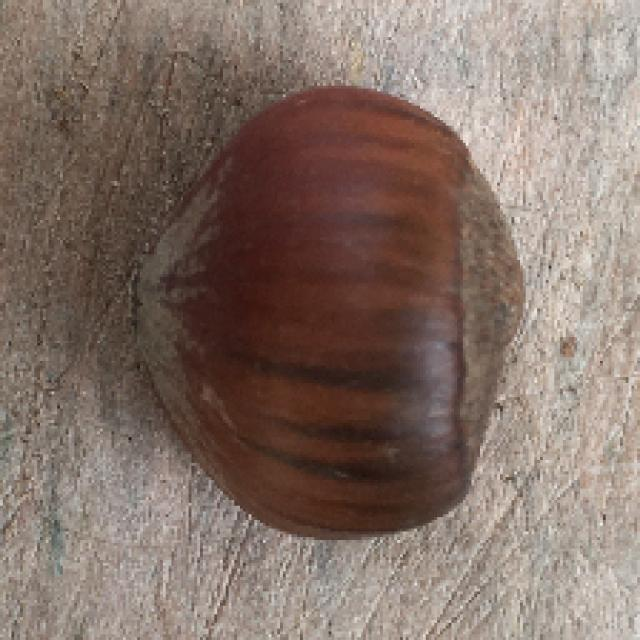qualityHazelnut: (138, 80, 520, 548)
